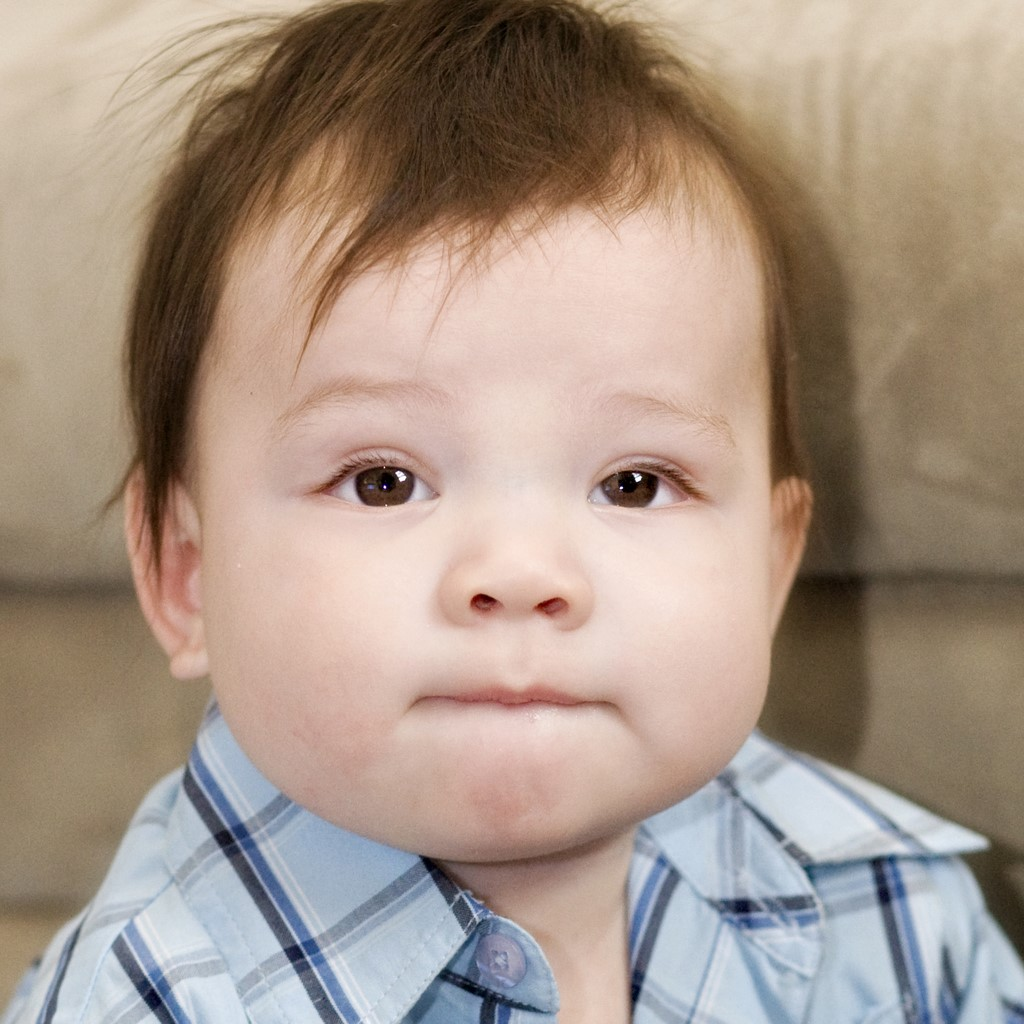sin_mascara: (157, 121, 786, 831)
